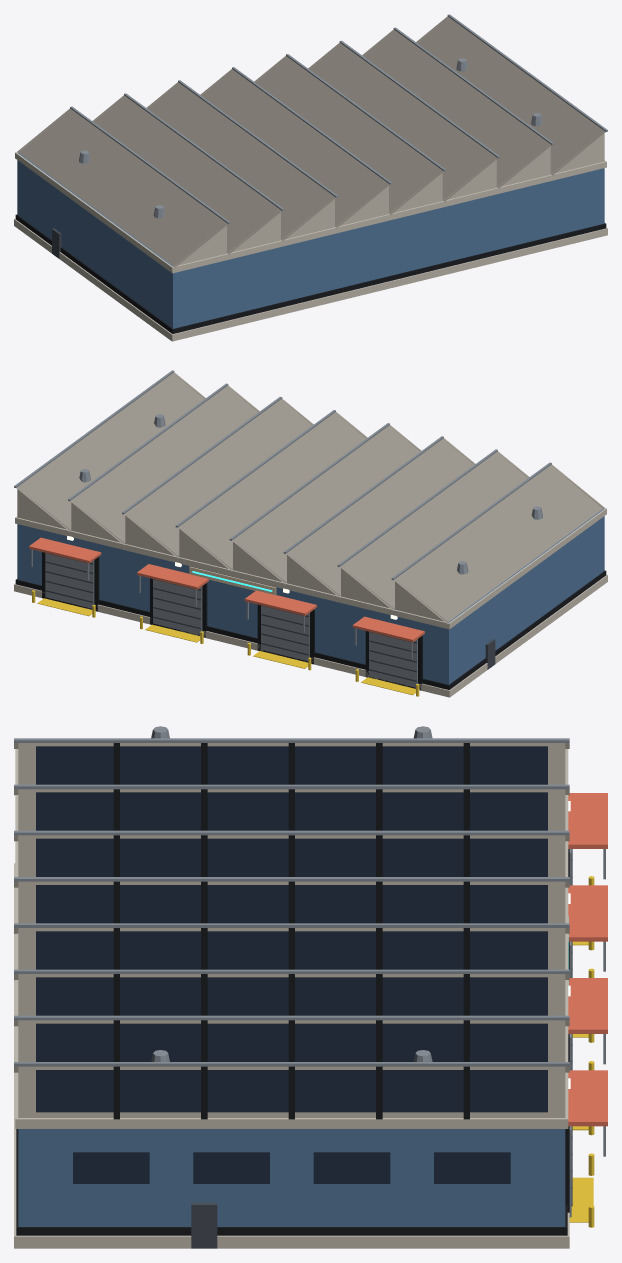
File: warehouse_b.glb
3 views of the same model, one above another, from view 1: azimuth 30°, elevation 25°; view 2: azimuth 150°, elevation 25°; view 3: azimuth 270°, elevation 25° (orthographic). The views are drawn at different scales.
Visible parts, largest first — view 1: Body; view 2: Body; view 3: Body.
Part boxes in pixels (x1=…): Body: x1=14, y1=14, x2=607, y2=341; Body: x1=14, y1=370, x2=607, y2=697; Body: x1=14, y1=726, x2=607, y2=1248.
Size of the model in its own units: 40.42 by 9.32 by 27.15.
